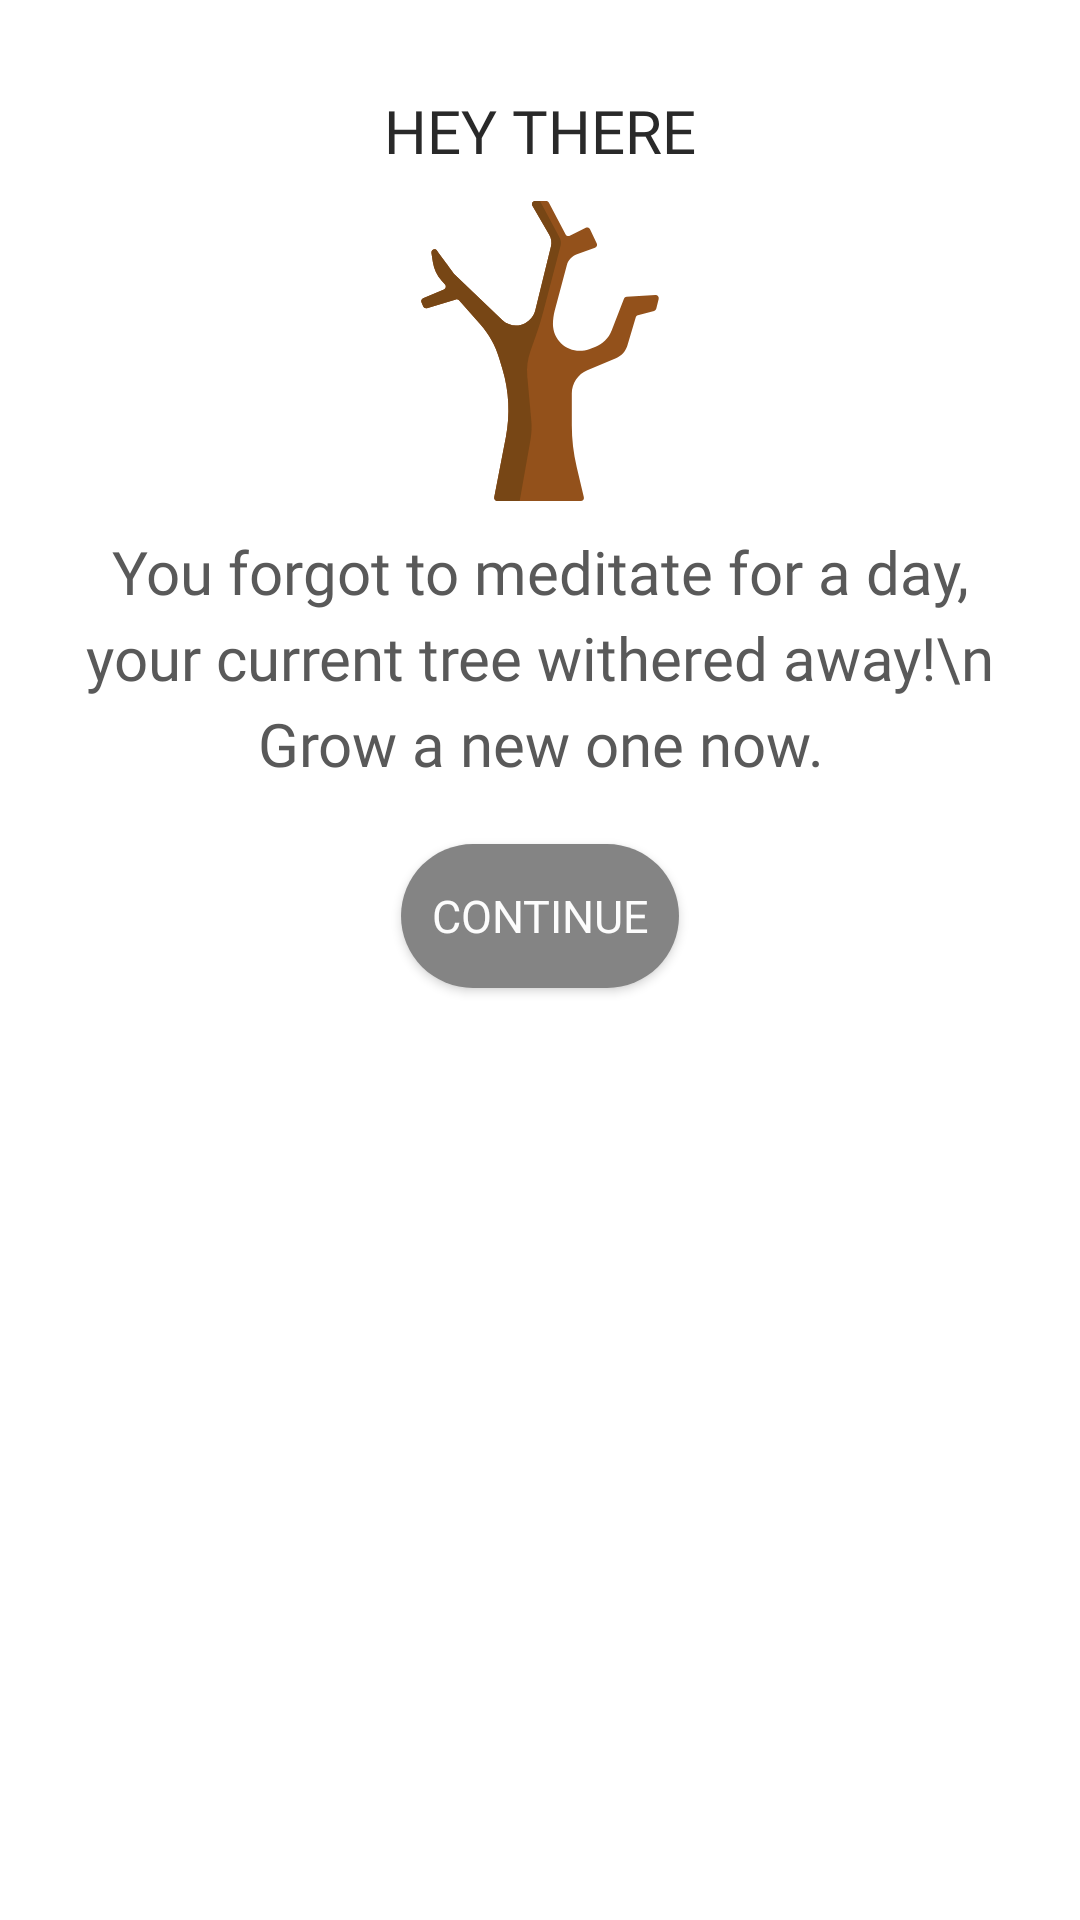

Icons on this 1080×1920 Android screen, each with the point to tap as (x=x, y=y):
tree ded: (x=540, y=351)
